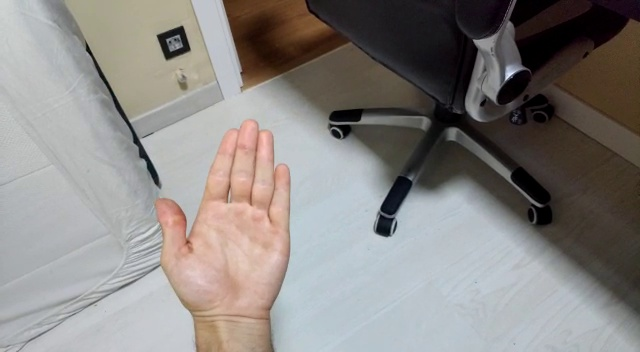Palm: (154, 115, 294, 331)
